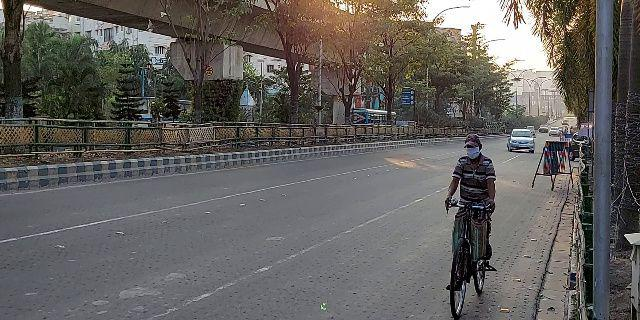Car: (506, 122, 538, 155)
Cycle: (441, 128, 500, 320)
